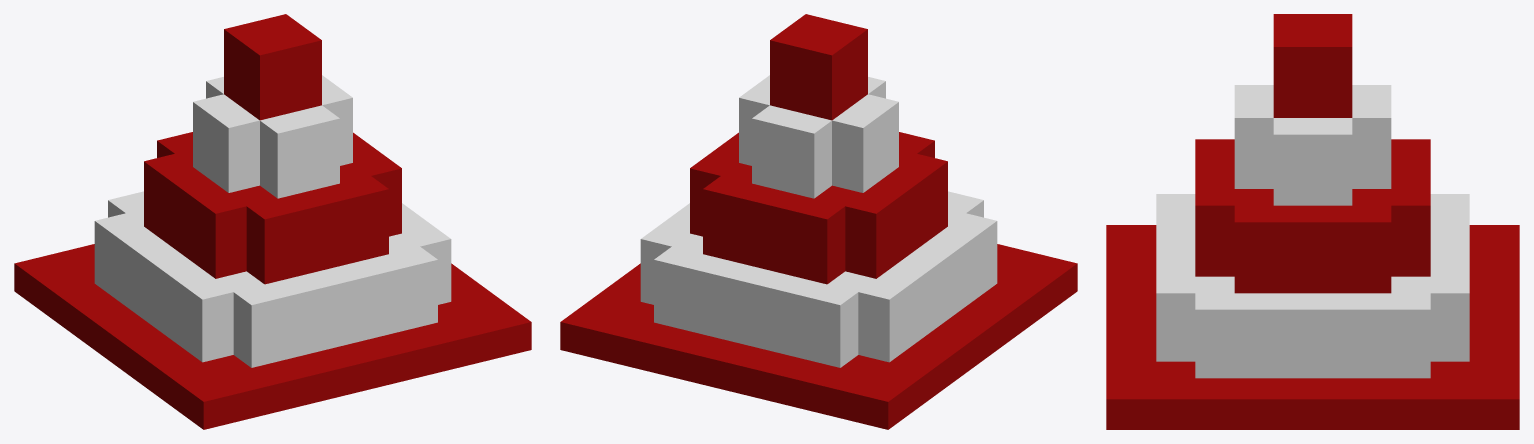
Rendered from corn.FBX.
The picture shows the model from 3 angles, left to right: view 1: azimuth 30°, elevation 25°; view 2: azimuth 150°, elevation 25°; view 3: azimuth 270°, elevation 25°; orthographic projection. The views are drawn at different scales.
Visible parts, largest first — view 1: Red, White; view 2: Red, White; view 3: Red, White.
Boxes of the visible parts, x1=… form: Red: x1=14, y1=14, x2=531, y2=429; White: x1=94, y1=75, x2=451, y2=367; Red: x1=560, y1=14, x2=1077, y2=429; White: x1=640, y1=75, x2=997, y2=367; Red: x1=1106, y1=14, x2=1519, y2=429; White: x1=1156, y1=85, x2=1469, y2=378.
Bounding box in the file's own units: 15.82 × 13.19 × 15.82.
